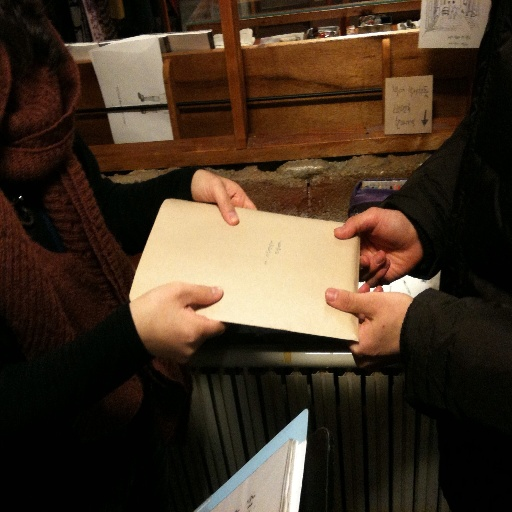hand: (135, 285, 228, 366), (330, 201, 421, 282), (322, 283, 416, 358), (193, 169, 258, 226)
